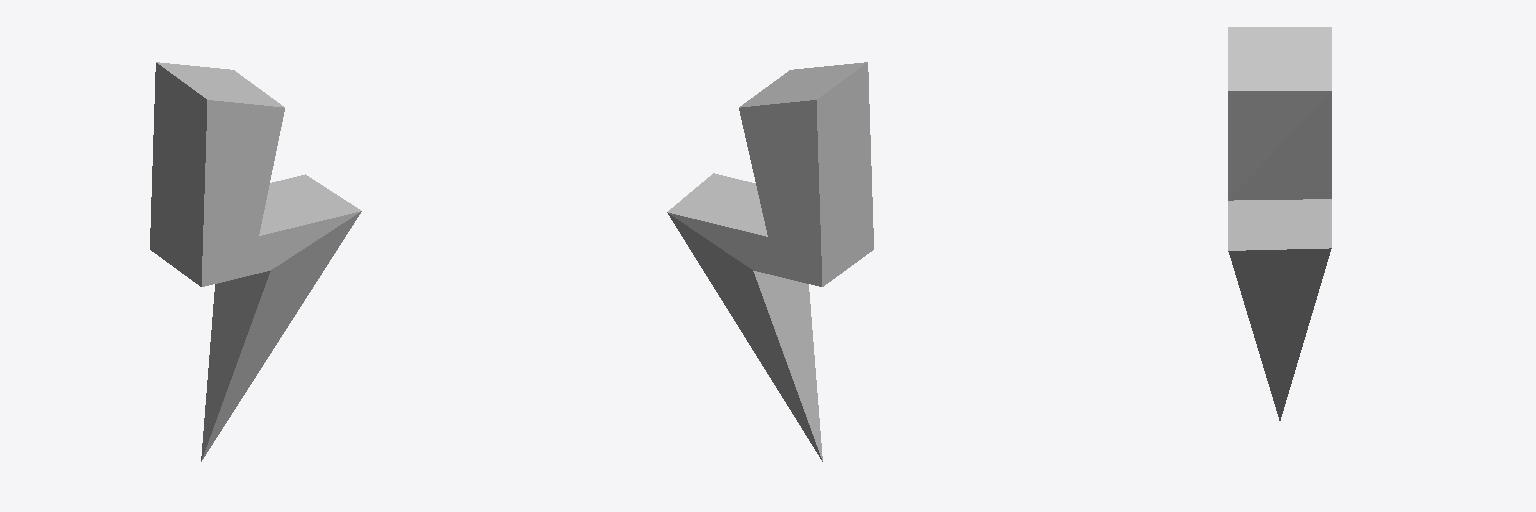
File: energy.obj
3 renders of one model, left to right at view 1: azimuth 30°, elevation 25°; view 2: azimuth 150°, elevation 25°; view 3: azimuth 270°, elevation 25°, orthographic.
Visible parts, largest first — view 1: Cone_Cone.003; view 2: Cone_Cone.003; view 3: Cone_Cone.003.
Boxes of the visible parts, x1,y1,x2,y2 form: Cone_Cone.003: [150, 62, 361, 461]; Cone_Cone.003: [667, 62, 873, 461]; Cone_Cone.003: [1228, 27, 1331, 420].
Size of the model in its own units: 0.6324 by 1.45 by 0.3523.